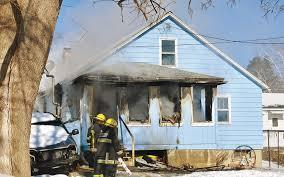smoke: (77, 47, 107, 68), (98, 85, 116, 115), (131, 90, 147, 120), (160, 90, 177, 112)
